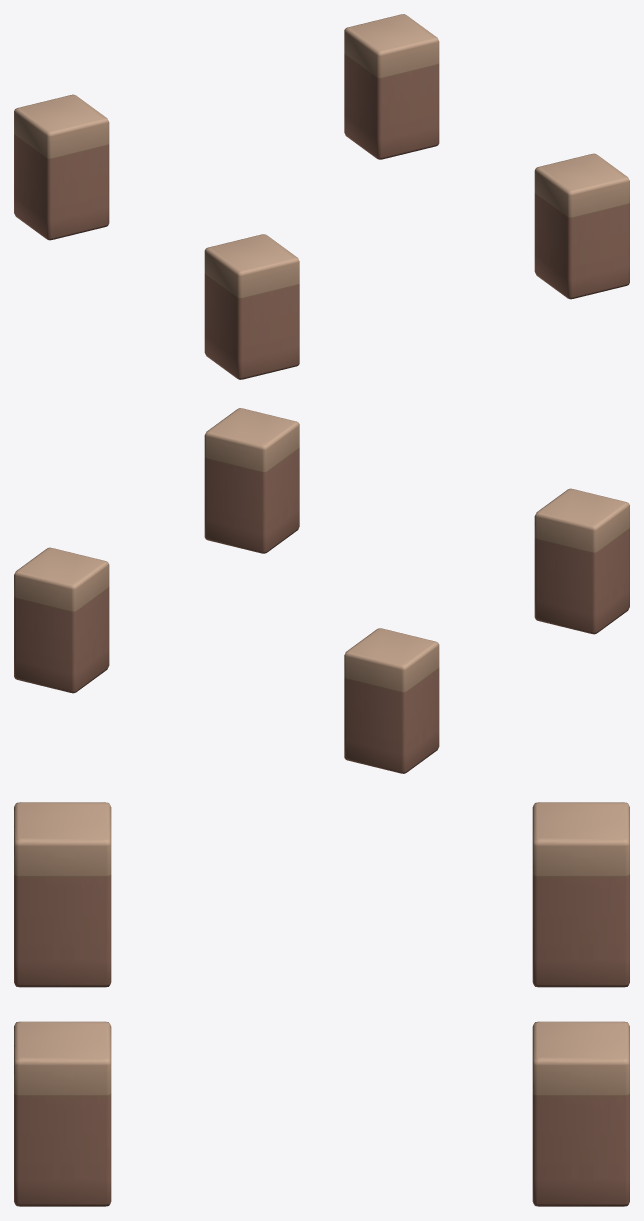
The model's file is Props.fbx.
The picture shows the model from 3 angles, top to bottom: view 1: azimuth 30°, elevation 25°; view 2: azimuth 150°, elevation 25°; view 3: azimuth 270°, elevation 25°; orthographic projection. The views are drawn at different scales.
Visible parts, largest first — view 1: Box03, Box03 (3), Box03 (1), Box03 (2); view 2: Box03 (1), Box03 (2), Box03, Box03 (3); view 3: Box03, Box03 (1), Box03 (2), Box03 (3).
Boxes of the visible parts, box(x1,y1,x2,y2) form: Box03: box(204, 234, 299, 379); Box03 (3): box(344, 14, 439, 159); Box03 (1): box(534, 153, 629, 299); Box03 (2): box(14, 94, 109, 240); Box03 (1): box(204, 408, 299, 553); Box03 (2): box(344, 628, 439, 773); Box03: box(534, 488, 629, 634); Box03 (3): box(14, 547, 109, 693); Box03: box(14, 802, 111, 987); Box03 (1): box(14, 1021, 111, 1206); Box03 (2): box(532, 802, 629, 987); Box03 (3): box(532, 1021, 629, 1206).
Bounding box in the file's own units: 19 × 5.01 × 19.
Materials: 1 (1 with a texture image).
